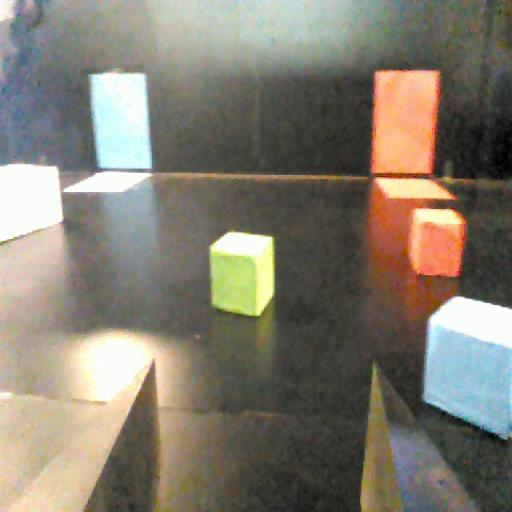cube: (423, 294, 512, 440), (206, 227, 282, 321), (409, 206, 465, 280)
